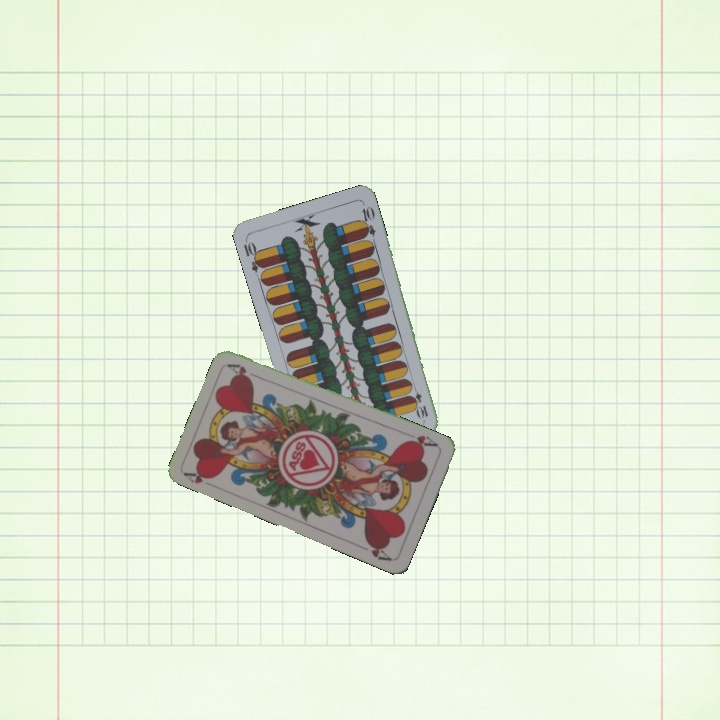E10: (239, 235, 266, 275), (408, 381, 431, 421)
HA: (401, 429, 441, 451), (180, 466, 217, 486)
